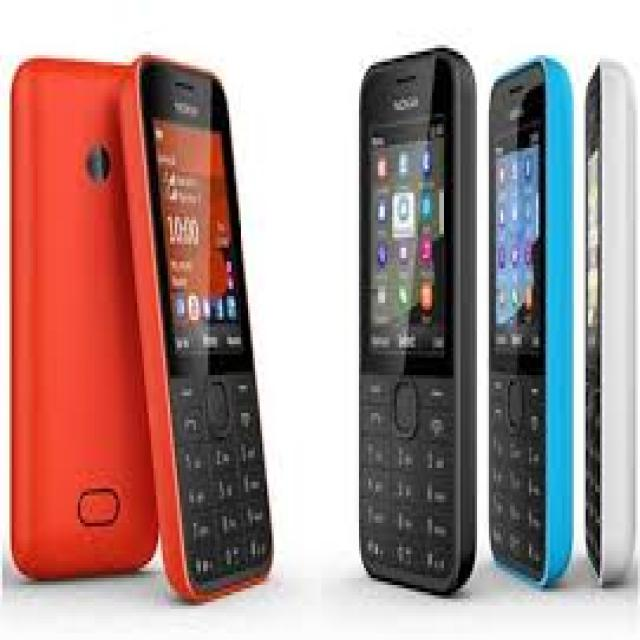mobile phone: (114, 47, 280, 605), (7, 48, 162, 600), (357, 42, 477, 596), (486, 51, 574, 588), (581, 55, 635, 585)
